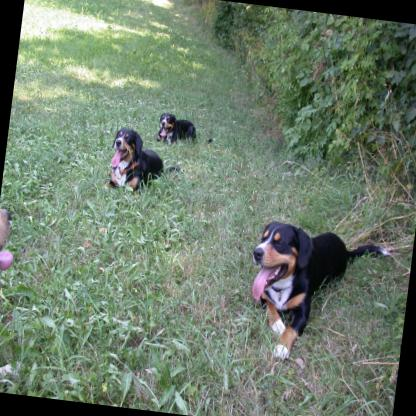EntleBucher: (236, 216, 390, 374), (101, 119, 183, 210), (0, 202, 22, 289), (158, 111, 196, 144)
